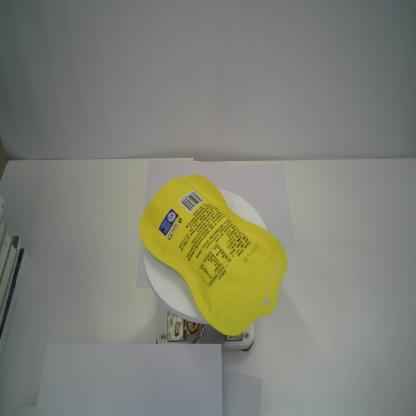Dried Fruit: (138, 172, 289, 336)
